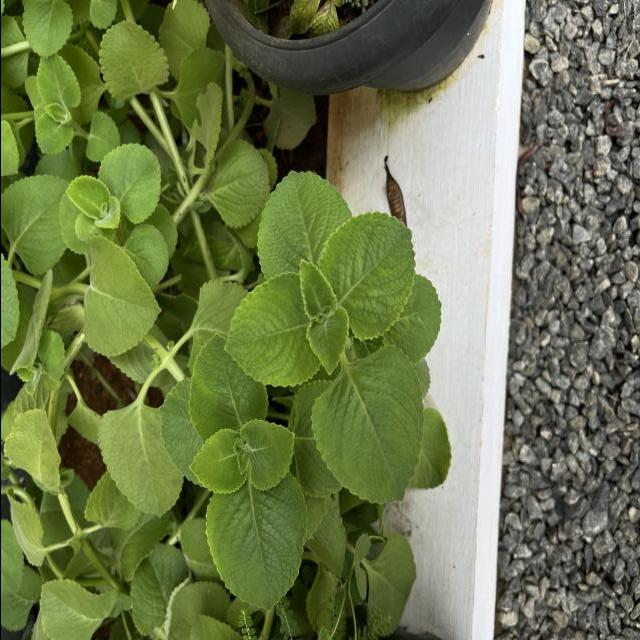Plectranthus barbatus: (308, 341, 426, 506), (314, 211, 418, 342), (204, 491, 308, 613), (222, 272, 322, 388), (255, 169, 352, 281), (95, 401, 184, 520), (79, 234, 163, 358), (186, 331, 268, 440), (0, 173, 74, 277), (96, 19, 170, 104), (205, 138, 270, 230), (96, 142, 161, 226), (237, 418, 295, 492), (187, 427, 246, 495), (304, 306, 349, 377), (20, 0, 73, 58), (35, 54, 82, 110)
